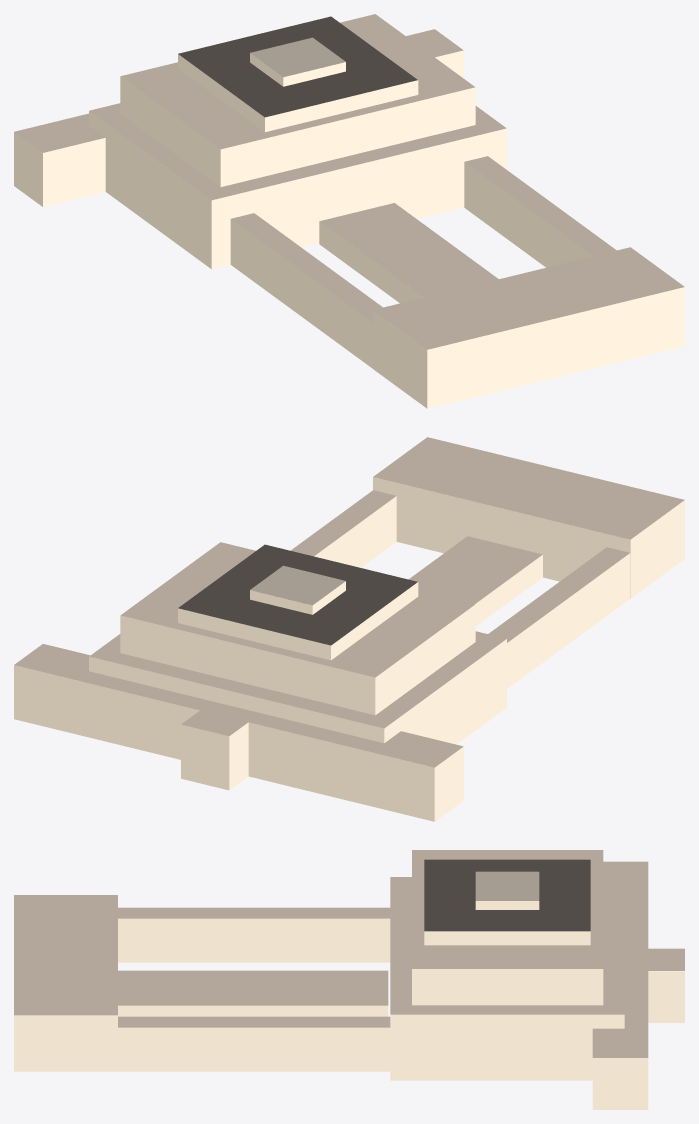
Rendered from aiwan_e_sadr_far.glb.
3 renders of one model, top to bottom at view 1: azimuth 30°, elevation 25°; view 2: azimuth 150°, elevation 25°; view 3: azimuth 270°, elevation 25°, orthographic. The views are drawn at different scales.
Parts seen in each view (by area): view 1: m_wall_white, m_roof_paving, m_roof_solar, m_roof_diamond; view 2: m_wall_white, m_roof_paving, m_roof_solar, m_roof_diamond; view 3: m_wall_white, m_roof_paving, m_roof_solar, m_roof_diamond.
Boxes of the visible parts, box(x1,y1,x2,y2) form: m_wall_white: box(14, 50, 684, 408); m_roof_paving: box(14, 14, 684, 349); m_roof_solar: box(178, 16, 417, 117); m_roof_diamond: box(250, 37, 345, 77); m_wall_white: box(14, 477, 684, 821); m_roof_paving: box(14, 437, 684, 767); m_roof_solar: box(178, 544, 417, 645); m_roof_diamond: box(250, 565, 345, 605); m_wall_white: box(14, 901, 684, 1109); m_roof_paving: box(14, 850, 684, 1057); m_roof_solar: box(424, 859, 590, 931); m_roof_diamond: box(475, 871, 539, 900).
Size of the model in its own units: 134 by 39.9 by 194.
